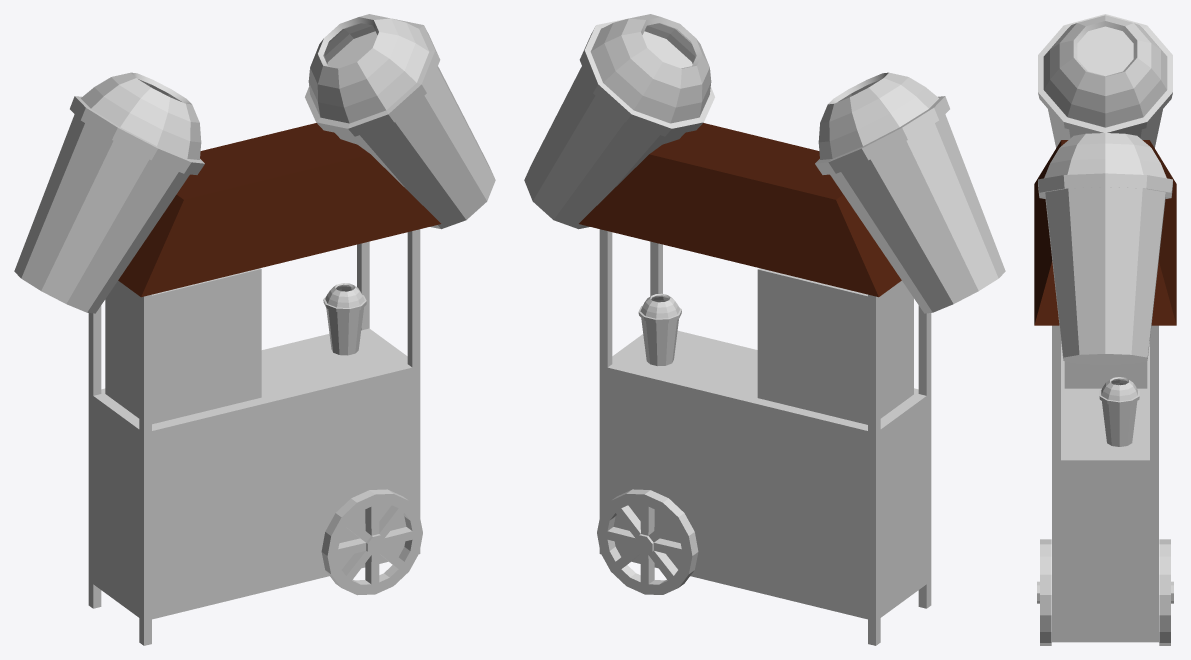
File: SlushieStand.fbx
The picture shows the model from 3 angles, left to right: view 1: azimuth 30°, elevation 25°; view 2: azimuth 150°, elevation 25°; view 3: azimuth 270°, elevation 25°; orthographic projection. The views are drawn at different scales.
Visible parts, largest first — view 1: SlushieStand, SlushieStand_Top001, SlushieCup_002, SlushieCup_001, SlushieBox, SlushieStand_Wheel004, SlushieCup_, SlushieCup_Liquid001; view 2: SlushieStand, SlushieStand_Top001, SlushieCup_002, SlushieCup_001, SlushieBox, SlushieStand_Wheel003, SlushieCup_, SlushieCup_Liquid001; view 3: SlushieStand, SlushieCup_001, SlushieCup_002, SlushieStand_Top001, SlushieCup_Liquid002, SlushieCup_, SlushieBox, SlushieStand_Wheel003, SlushieStand_Wheel004.
Part boxes in pixels (<box>): SlushieStand: <box>88,229,420,645</box>; SlushieStand_Top001: <box>118,123,440,297</box>; SlushieCup_002: <box>14,72,204,313</box>; SlushieCup_001: <box>305,14,495,229</box>; SlushieBox: <box>105,268,261,424</box>; SlushieStand_Wheel004: <box>321,489,422,595</box>; SlushieCup_: <box>323,283,366,355</box>; SlushieCup_Liquid001: <box>327,31,377,68</box>; SlushieStand: <box>599,229,931,645</box>; SlushieStand_Top001: <box>579,123,901,297</box>; SlushieCup_002: <box>815,72,1005,313</box>; SlushieCup_001: <box>524,14,714,229</box>; SlushieBox: <box>757,268,913,424</box>; SlushieStand_Wheel003: <box>597,489,698,594</box>; SlushieCup_: <box>638,293,681,366</box>; SlushieCup_Liquid001: <box>642,31,692,68</box>; SlushieStand: <box>1052,325,1158,642</box>; SlushieCup_001: <box>1038,133,1172,364</box>; SlushieCup_002: <box>1038,14,1172,147</box>; SlushieStand_Top001: <box>1034,140,1176,325</box>; SlushieCup_Liquid002: <box>1077,26,1133,76</box>; SlushieCup_: <box>1099,377,1139,446</box>; SlushieBox: <box>1064,361,1147,388</box>; SlushieStand_Wheel003: <box>1159,539,1173,645</box>; SlushieStand_Wheel004: <box>1037,539,1051,645</box>.
Bounding box in the file's own units: 1692 × 1878 × 462.
